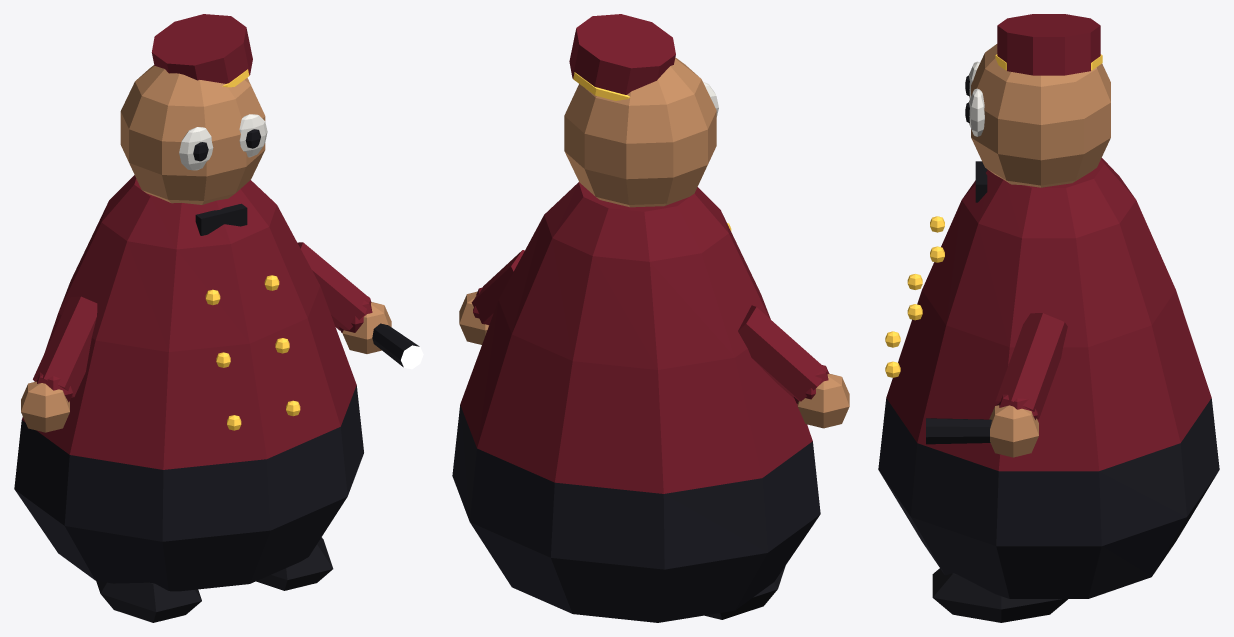
The model's file is npc_chicho.glb.
3 views of the same model, side by side, from view 1: azimuth 30°, elevation 25°; view 2: azimuth 150°, elevation 25°; view 3: azimuth 270°, elevation 25° (orthographic). The views are drawn at different scales.
Parts seen in each view (by area): view 1: body_usher_jacket, body_usher_pants, head_skin_chicho, arms_usher_jacket, cap_usher_jacket, legs_black, arms_skin_chicho, face_white, buttons_usher_gold, bow_black, flashlight_black; view 2: body_usher_jacket, body_usher_pants, head_skin_chicho, cap_usher_jacket, arms_usher_jacket, arms_skin_chicho, legs_black; view 3: body_usher_jacket, body_usher_pants, head_skin_chicho, cap_usher_jacket, arms_usher_jacket, legs_black, arms_skin_chicho, flashlight_black, buttons_usher_gold, face_white.
Boxes of the visible parts, x1=… form: body_usher_jacket: x1=22, y1=175, x2=356, y2=469; body_usher_pants: x1=14, y1=385, x2=363, y2=591; head_skin_chicho: x1=120, y1=65, x2=265, y2=204; arms_usher_jacket: x1=33, y1=242, x2=372, y2=402; cap_usher_jacket: x1=151, y1=14, x2=252, y2=83; legs_black: x1=96, y1=537, x2=333, y2=622; arms_skin_chicho: x1=21, y1=302, x2=391, y2=432; face_white: x1=179, y1=114, x2=267, y2=170; buttons_usher_gold: x1=205, y1=275, x2=300, y2=430; bow_black: x1=195, y1=203, x2=247, y2=235; flashlight_black: x1=372, y1=323, x2=419, y2=367; body_usher_jacket: x1=460, y1=182, x2=812, y2=493; body_usher_pants: x1=452, y1=405, x2=820, y2=622; head_skin_chicho: x1=564, y1=57, x2=716, y2=207; cap_usher_jacket: x1=569, y1=14, x2=675, y2=94; arms_usher_jacket: x1=471, y1=250, x2=829, y2=403; arms_skin_chicho: x1=459, y1=291, x2=849, y2=428; legs_black: x1=705, y1=566, x2=785, y2=619; body_usher_jacket: x1=886, y1=158, x2=1211, y2=471; body_usher_pants: x1=878, y1=398, x2=1219, y2=598; head_skin_chicho: x1=971, y1=44, x2=1110, y2=187; cap_usher_jacket: x1=997, y1=14, x2=1100, y2=75; arms_usher_jacket: x1=995, y1=313, x2=1067, y2=419; legs_black: x1=932, y1=568, x2=1067, y2=622; arms_skin_chicho: x1=989, y1=405, x2=1038, y2=457; flashlight_black: x1=926, y1=418, x2=991, y2=444; buttons_usher_gold: x1=885, y1=216, x2=944, y2=377; face_white: x1=969, y1=61, x2=984, y2=136.
Size of the model in its own units: 1.13 by 1.58 by 0.86.
